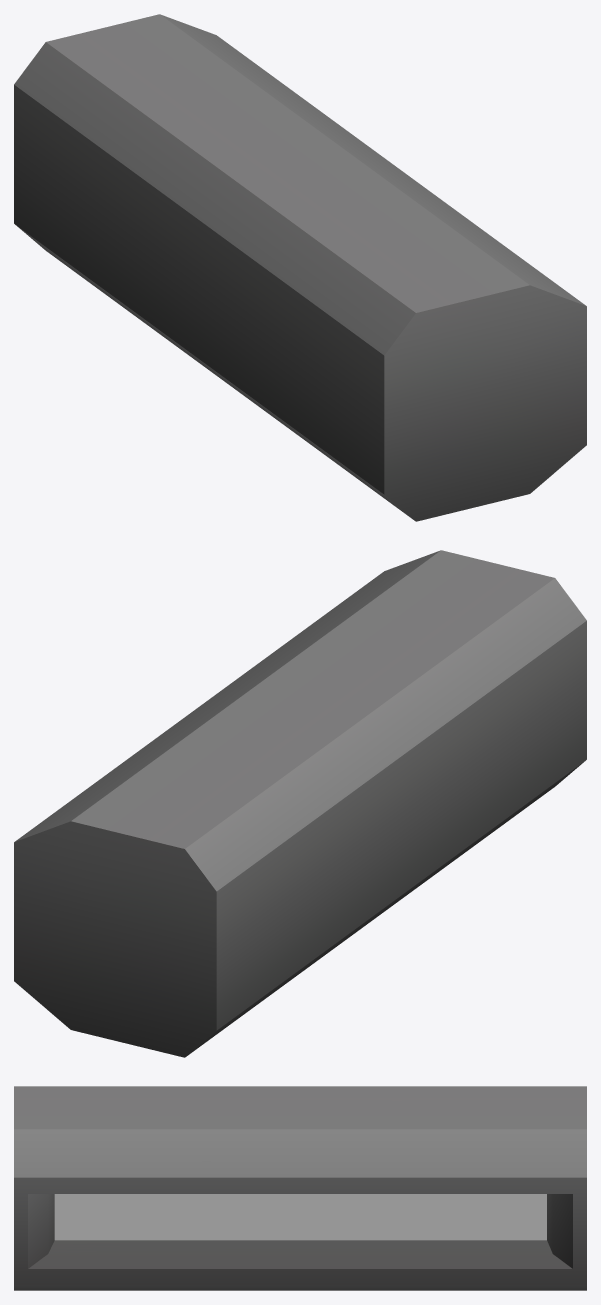
File: Lamp3.fbx
3 views of the same model, one above another, from view 1: azimuth 30°, elevation 25°; view 2: azimuth 150°, elevation 25°; view 3: azimuth 270°, elevation 25° (orthographic). The views are drawn at different scales.
Parts seen in each view (by area): view 1: Lamp3; view 2: Lamp3; view 3: Lamp3.
Boxes of the visible parts, x1,y1,x2,y2 form: Lamp3: (14, 14, 586, 521); Lamp3: (14, 550, 586, 1057); Lamp3: (14, 1086, 586, 1290).
Bounding box in the file's own units: 0.195 × 0.6174 × 0.192.
